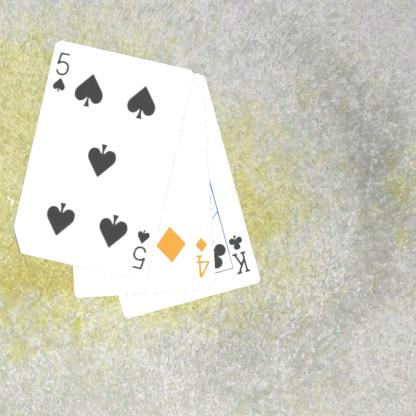4D: (193, 235, 211, 280)
5S: (129, 227, 152, 272), (49, 49, 72, 94)
KC: (220, 231, 252, 276)
